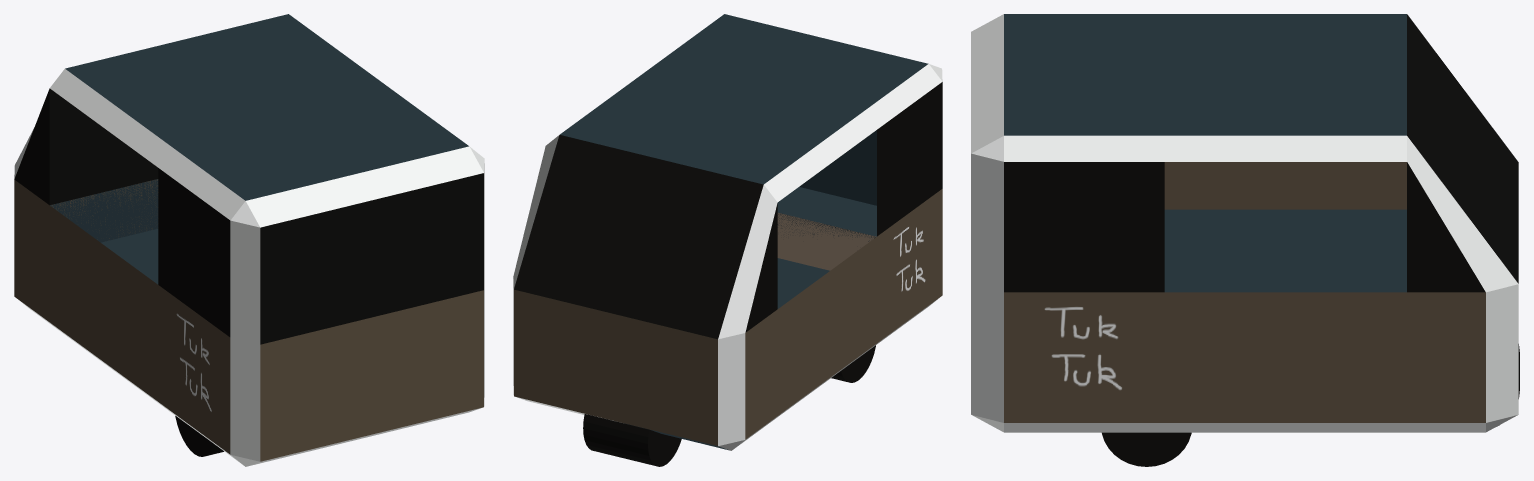
The model's file is TukTuk.fbx.
3 renders of one model, left to right at view 1: azimuth 30°, elevation 25°; view 2: azimuth 150°, elevation 25°; view 3: azimuth 270°, elevation 25°, orthographic. The views are drawn at different scales.
Visible parts, largest first — view 1: Cube; view 2: Cube; view 3: Cube.
Part boxes in pixels (bbox=[...]): Cube: bbox=[14, 14, 484, 466]; Cube: bbox=[513, 14, 942, 466]; Cube: bbox=[971, 14, 1519, 466].
Size of the model in its own units: 200 by 228 by 335.
